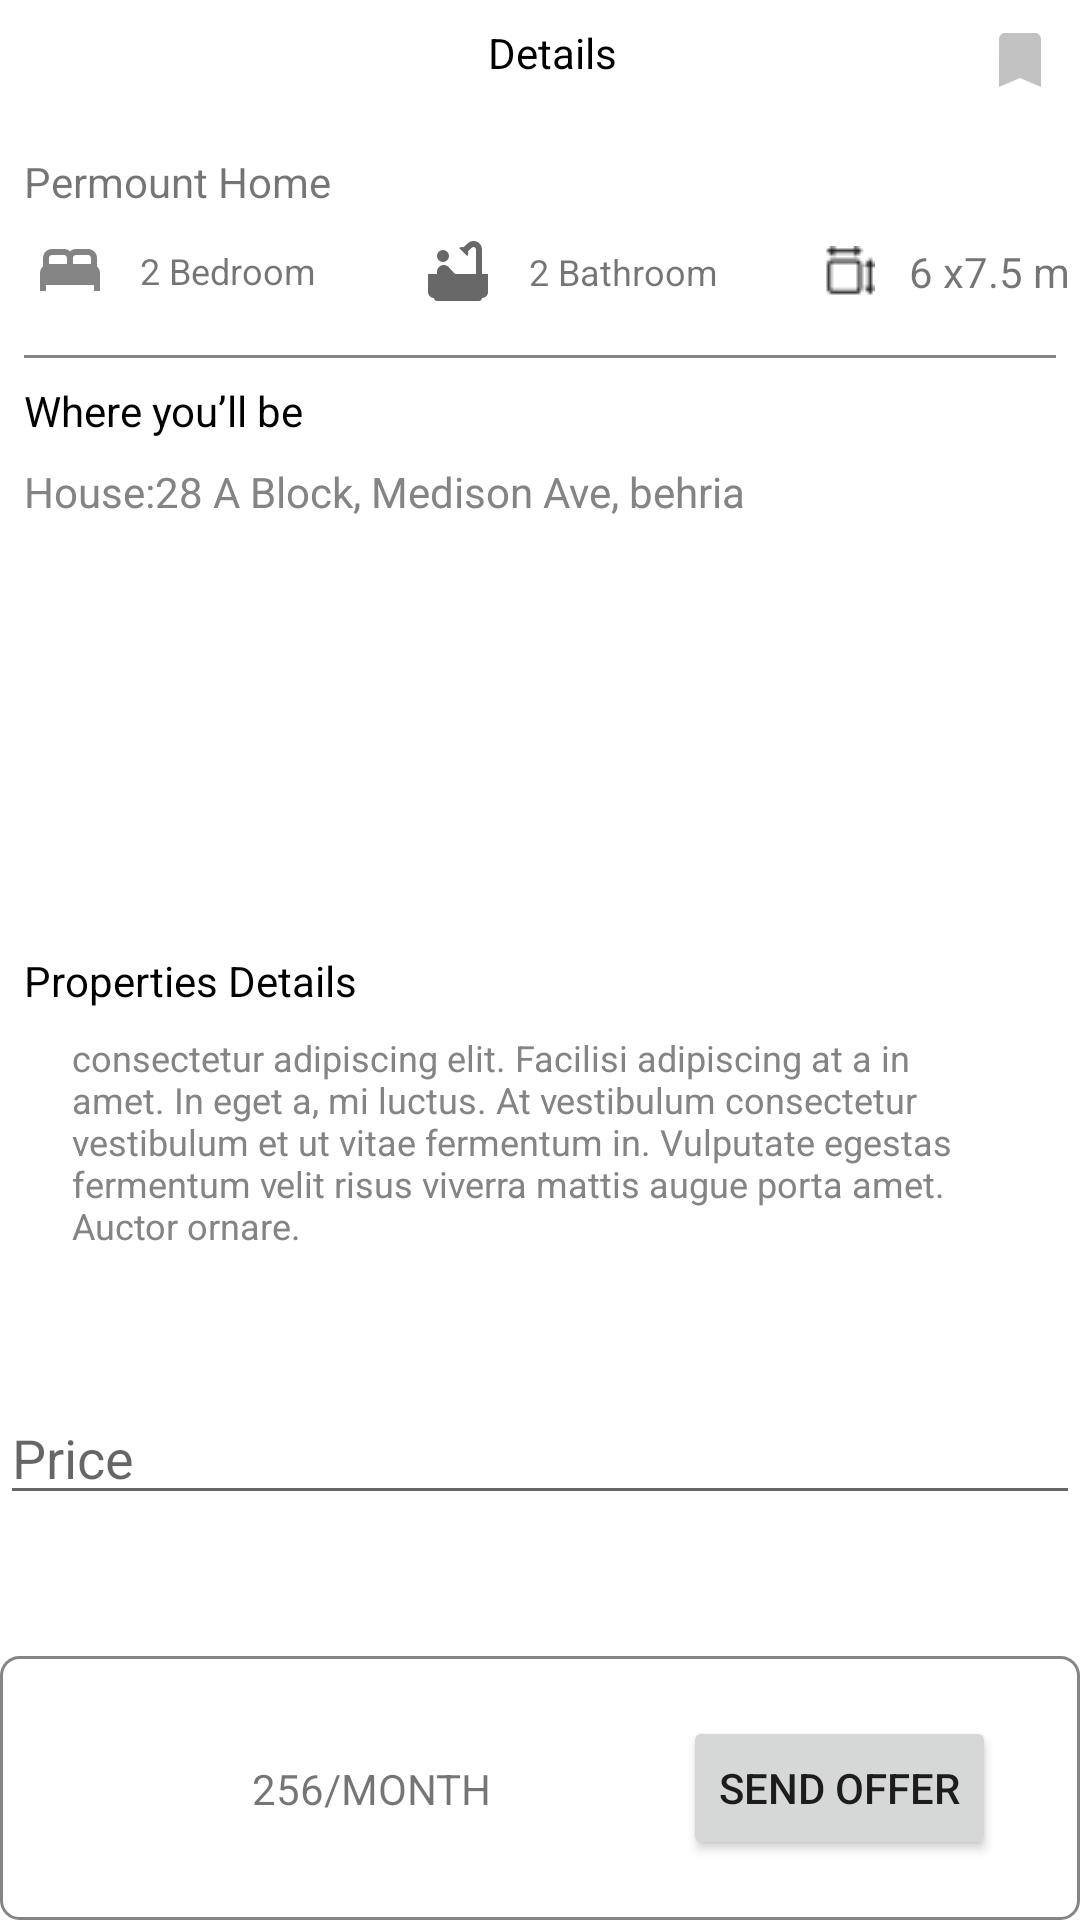

Screen size 1080 × 1920. Icon name, then its box in pixels as (x1, y1, x2, y2):
bathtub: (428, 241, 488, 301)
bed: (40, 249, 100, 291)
bookmark: (999, 33, 1041, 87)
